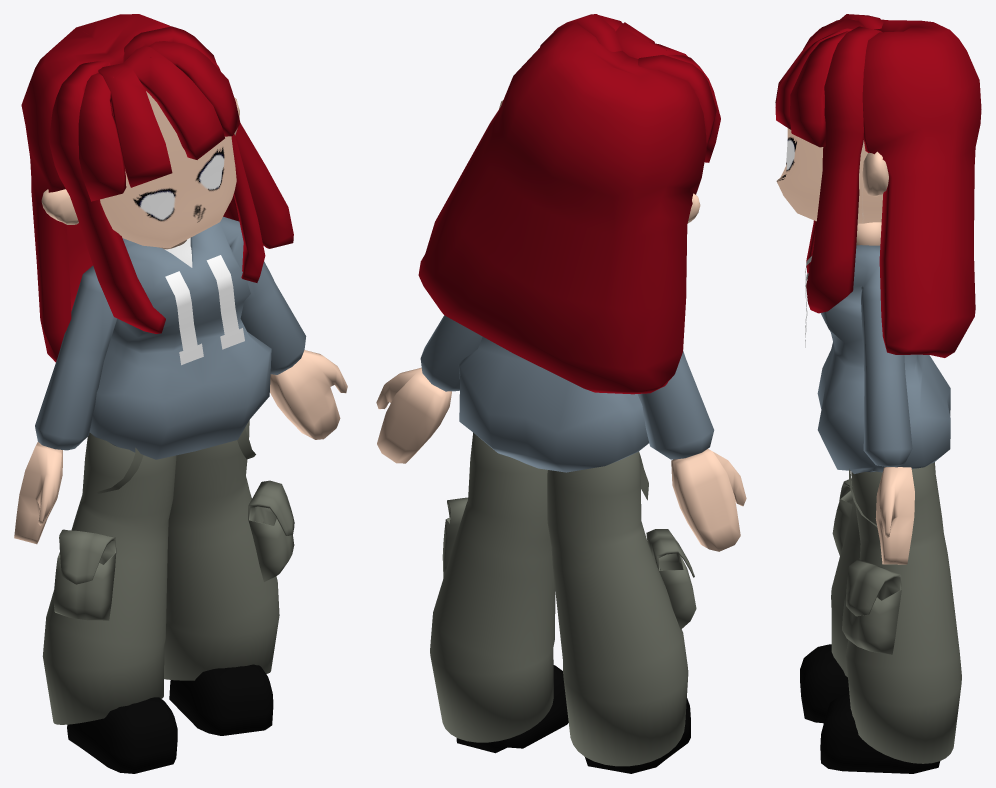
Rendered from umi_idle_0.glb.
3 views of the same model, side by side, from view 1: azimuth 30°, elevation 25°; view 2: azimuth 150°, elevation 25°; view 3: azimuth 270°, elevation 25° (orthographic). The views are drawn at different scales.
Parts seen in each view (by area): view 1: pants, sweater, hair.003, hair.001, feet, hair, head, bolsillo, hand, hair.002, Plane, ear (+1 smaller); view 2: hair.003, pants, sweater, hand, bolsillo, feet, hair.001, hair, hair.002; view 3: hair.003, pants, sweater, hair.001, feet, bolsillo, head, hand, hair.002, hair, ear, neck.
Part boxes in pixels (left/top/right/bottom): pants: left=42, top=420, right=279, bottom=724; sweater: left=35, top=216, right=306, bottom=459; hair.003: left=21, top=14, right=293, bottom=362; hair.001: left=49, top=26, right=265, bottom=333; feet: left=67, top=664, right=273, bottom=773; hair: left=98, top=46, right=224, bottom=187; head: left=100, top=91, right=236, bottom=248; bolsillo: left=53, top=480, right=294, bottom=620; hand: left=14, top=350, right=347, bottom=544; hair.002: left=78, top=41, right=240, bottom=201; Plane: left=165, top=255, right=244, bottom=365; ear: left=41, top=97, right=239, bottom=224; hair.003: left=418, top=23, right=706, bottom=394; pants: left=430, top=432, right=688, bottom=766; sweater: left=420, top=315, right=714, bottom=472; hand: left=376, top=367, right=746, bottom=551; bolsillo: left=442, top=497, right=696, bottom=629; feet: left=456, top=665, right=690, bottom=773; hair.001: left=540, top=14, right=716, bottom=146; hair: left=615, top=22, right=687, bottom=58; hair.002: left=598, top=15, right=720, bottom=162; hair.003: left=862, top=19, right=981, bottom=357; pants: left=831, top=462, right=961, bottom=763; sweater: left=817, top=245, right=950, bottom=473; hair.001: left=806, top=14, right=883, bottom=313; feet: left=800, top=644, right=940, bottom=773; bolsillo: left=832, top=478, right=901, bottom=654; head: left=776, top=128, right=882, bottom=223; hand: left=875, top=467, right=914, bottom=564; hair.002: left=790, top=18, right=855, bottom=147; hair: left=775, top=18, right=864, bottom=129; ear: left=862, top=151, right=888, bottom=196; neck: left=856, top=222, right=881, bottom=245.
Size of the model in its own units: 2.56 by 5.02 by 1.35.
